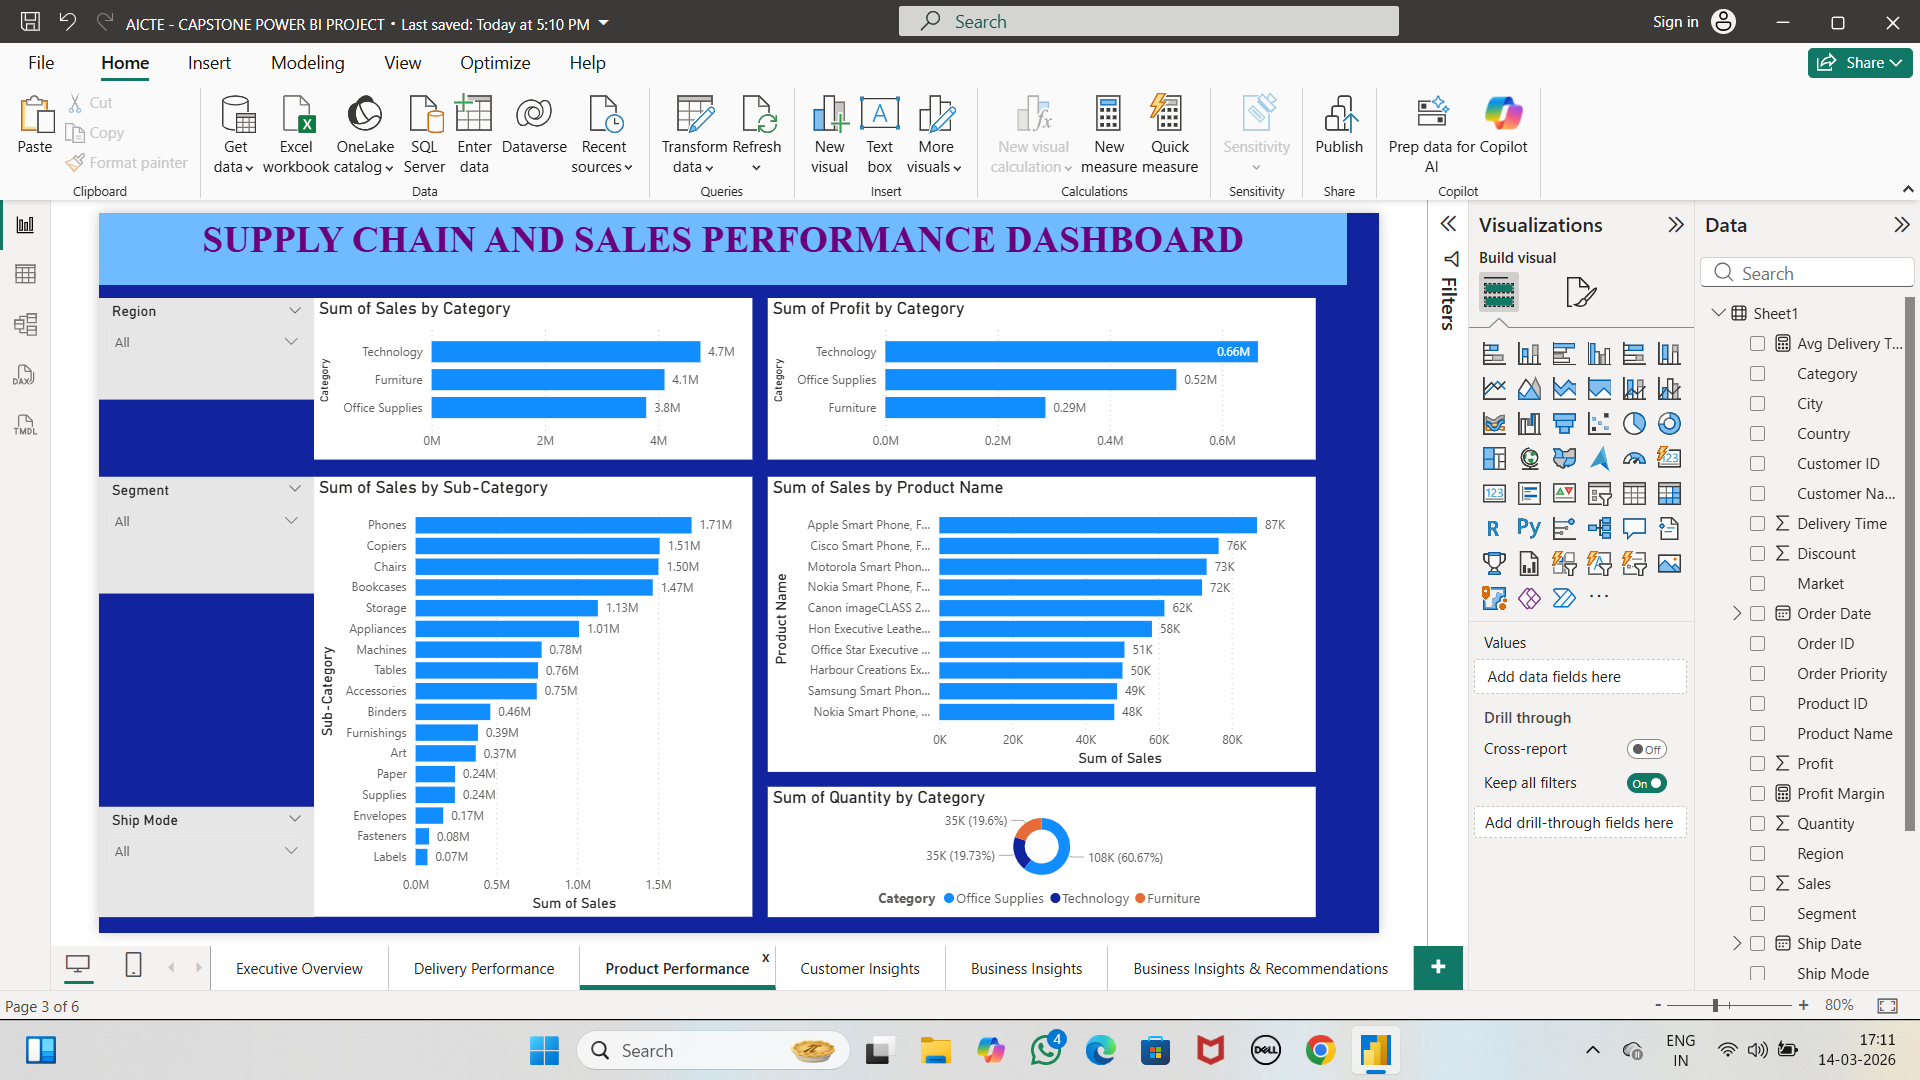

Layout of this report page (visuals, bound fields, positions):
{"tool":"powerbi","page":{"name":"Product Performance ","canvas":[1280,720],"ordinal":2},"visuals":[{"type":"barChart","fields":{"Category":["Sheet1.Category"],"Y":["Sum(Sheet1.Sales)"]},"box":[215,85,438.3,161.7],"z":0},{"type":"barChart","fields":{"Category":["Sheet1.Category"],"Y":["Sum(Sheet1.Profit)"]},"box":[668.3,85,548.3,161.7],"z":1000},{"type":"barChart","fields":{"Category":["Sheet1.Sub-Category"],"Y":["Sum(Sheet1.Sales)"]},"box":[215,263.3,438.3,440],"z":2000},{"type":"barChart","fields":{"Category":["Sheet1.Product Name"],"Y":["Sum(Sheet1.Sales)"]},"box":[668.3,263.3,548.3,295],"z":3000},{"type":"donutChart","fields":{"Category":["Sheet1.Category"],"Y":["Sum(Sheet1.Quantity)"]},"box":[668.3,573.3,548.3,130],"z":4000},{"type":"slicer","fields":{"Values":["Sheet1.Region"]},"box":[0,85,215,101.7],"z":5000},{"type":"slicer","fields":{"Values":["Sheet1.Segment"]},"box":[0,263.3,215,116.7],"z":6000},{"type":"slicer","fields":{"Values":["Sheet1.Ship Mode"]},"box":[0,593.3,215,110],"z":7000},{"type":"textbox","box":[0,0,1248.3,71.7],"z":8000}]}

Visuals, with their boxes on the page's 1280x720 design canvas (x1, y1, x2, y2). These are canvas units, not pixel positions in the 1920x1080 screenshot, which may show the page scaled, cropped or inside an application window:
barChart - Sheet1.Category x Sum(Sheet1.Sales): (left=215, top=85, right=653, bottom=247)
barChart - Sheet1.Category x Sum(Sheet1.Profit): (left=668, top=85, right=1217, bottom=247)
barChart - Sheet1.Sub-Category x Sum(Sheet1.Sales): (left=215, top=263, right=653, bottom=703)
barChart - Sheet1.Product Name x Sum(Sheet1.Sales): (left=668, top=263, right=1217, bottom=558)
donutChart - Sheet1.Category x Sum(Sheet1.Quantity): (left=668, top=573, right=1217, bottom=703)
slicer - Sheet1.Region: (left=0, top=85, right=215, bottom=187)
slicer - Sheet1.Segment: (left=0, top=263, right=215, bottom=380)
slicer - Sheet1.Ship Mode: (left=0, top=593, right=215, bottom=703)
textbox: (left=0, top=0, right=1248, bottom=72)
